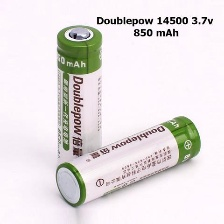battery: (50, 107, 204, 214), (53, 23, 105, 174)
